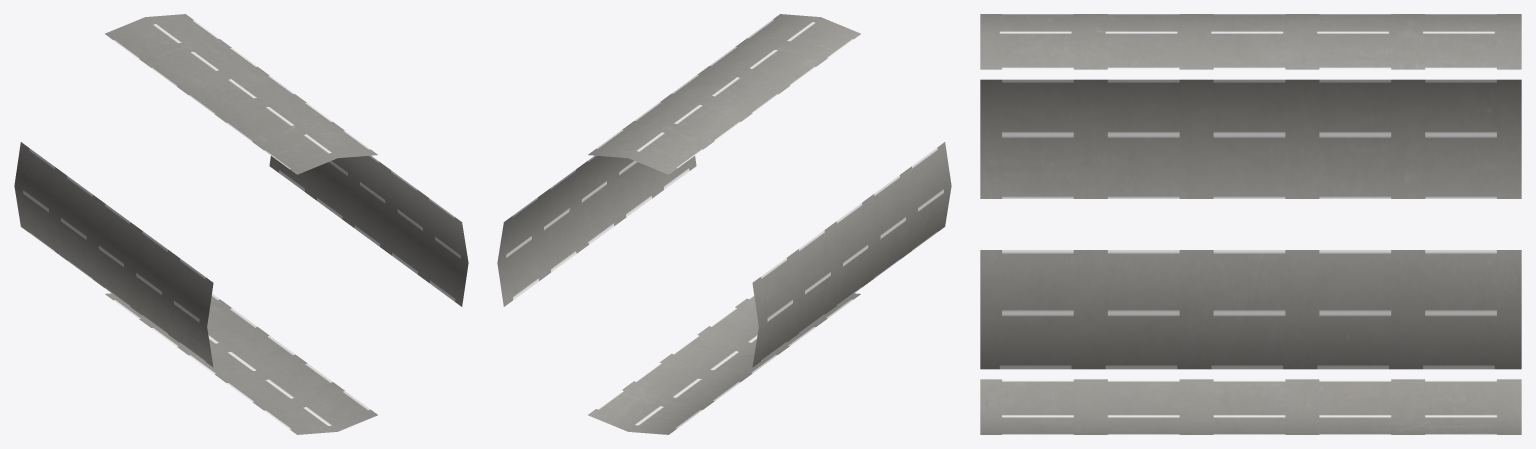
Rendered from s01_straight_ZONES_BACKUP_aa.fbx.
3 renders of one model, left to right at view 1: azimuth 30°, elevation 25°; view 2: azimuth 150°, elevation 25°; view 3: azimuth 270°, elevation 25°, orthographic. The views are drawn at different scales.
Parts seen in each view (by area): view 1: z3, z2, z1, z0; view 2: z3, z2, z1, z0; view 3: z3, z1, z2, z0.
Boxes of the visible parts, x1=… form: z3: x1=14, y1=142, x2=213, y2=367; z2: x1=105, y1=14, x2=377, y2=174; z1: x1=269, y1=155, x2=468, y2=306; z0: x1=105, y1=293, x2=377, y2=434; z3: x1=752, y1=142, x2=951, y2=367; z2: x1=588, y1=14, x2=860, y2=174; z1: x1=497, y1=155, x2=696, y2=306; z0: x1=588, y1=293, x2=860, y2=434; z3: x1=980, y1=79, x2=1521, y2=198; z1: x1=980, y1=250, x2=1521, y2=369; z2: x1=980, y1=14, x2=1521, y2=69; z0: x1=980, y1=379, x2=1521, y2=434.
Size of the model in its own units: 75.19 by 75.19 by 95.99.
Materials: 1 (1 with a texture image).
